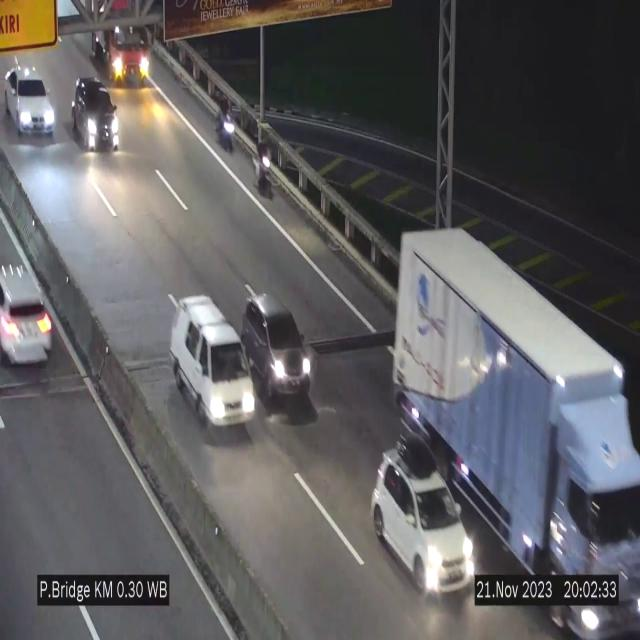Car: (372, 443, 474, 598), (170, 297, 258, 435), (241, 293, 315, 418), (0, 254, 63, 374), (64, 67, 130, 161), (5, 67, 56, 135)
Motorcycle: (254, 134, 282, 206), (217, 96, 237, 158)
Truck: (388, 222, 640, 634), (89, 6, 154, 86)
